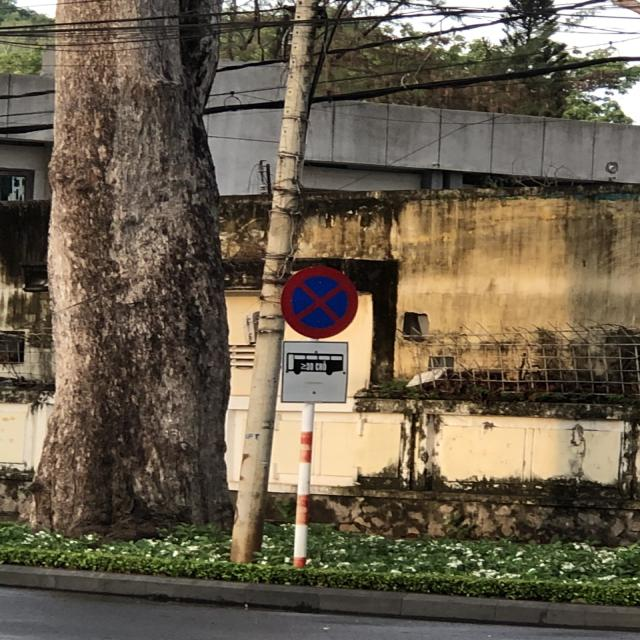Bien bao cam dung xe va do xe: (274, 263, 364, 340)
